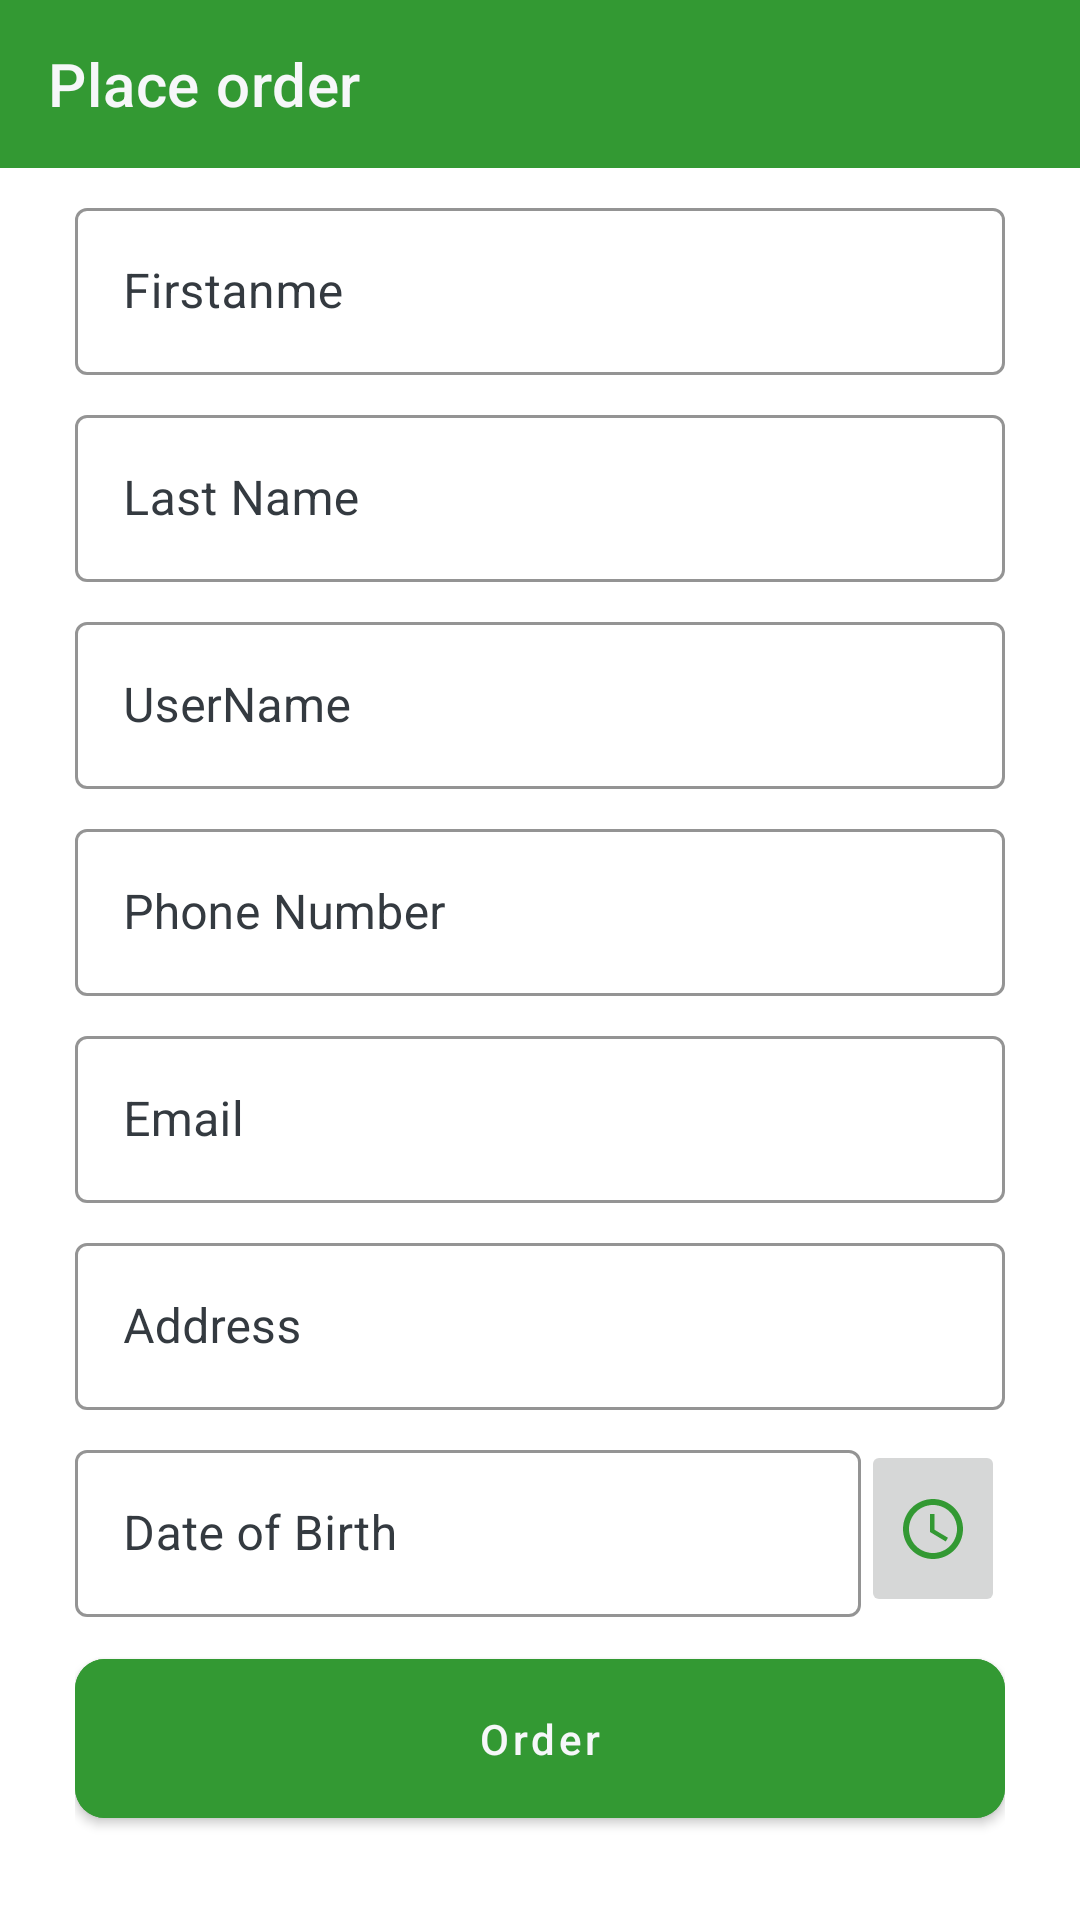

Locate icon controls on the screen. Image size 1080w x 1920h, boxes as (x1, y1, x2, y2).
access time: (873, 1458, 993, 1599)
